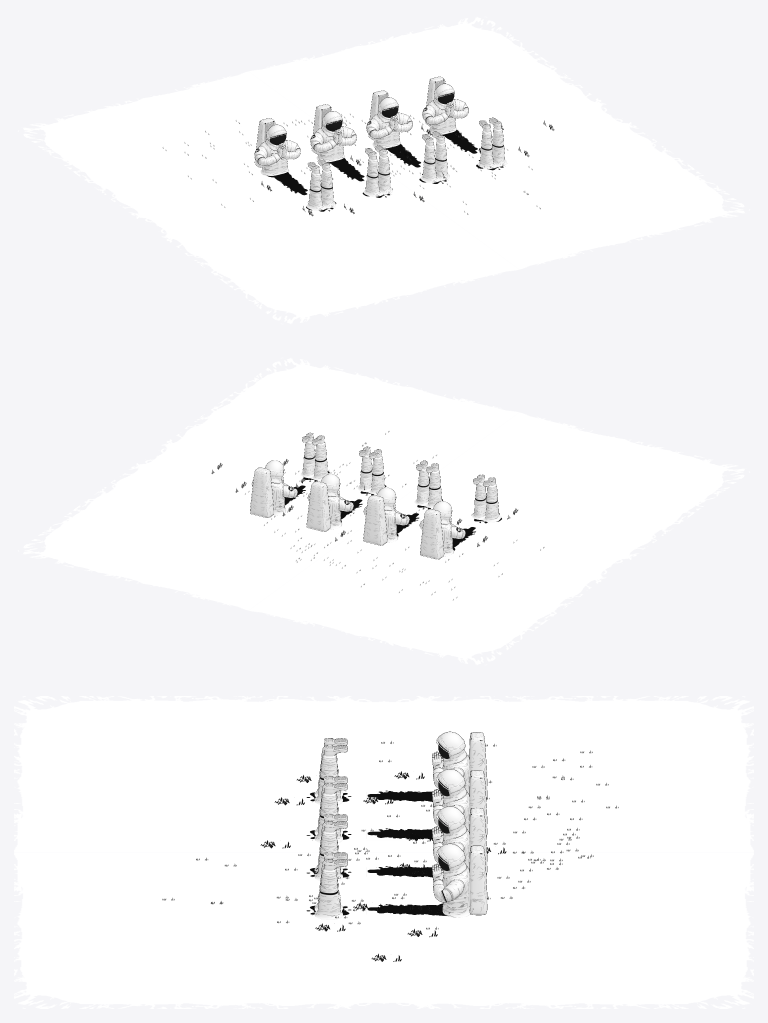
Rendered from ChainsawMan.glb.
3 views of the same model, one above another, from view 1: azimuth 30°, elevation 25°; view 2: azimuth 150°, elevation 25°; view 3: azimuth 270°, elevation 25° (orthographic). The views are drawn at different scales.
Visible parts, largest first — view 1: Ground, UpperBody.001, LowerBody, Plane, Accesories.001, Plane.001, HelmetGlass.001; view 2: Ground, LowerBody, Accesories.001, UpperBody.001, Plane, Plane.001; view 3: Ground, UpperBody.001, LowerBody, Accesories.001, Plane, Plane.001.
Part boxes in pixels (x1,y1,x2,y2): Ground: [18, 16, 749, 324]; UpperBody.001: [254, 83, 468, 176]; LowerBody: [306, 117, 507, 210]; Plane: [267, 130, 503, 211]; Accesories.001: [254, 76, 452, 167]; Plane.001: [162, 114, 554, 216]; HelmetGlass.001: [269, 92, 454, 145]; Ground: [18, 357, 749, 665]; LowerBody: [300, 432, 501, 522]; Accesories.001: [250, 467, 444, 559]; UpperBody.001: [252, 460, 465, 556]; Plane: [284, 471, 501, 550]; Plane.001: [211, 431, 544, 600]; Ground: [14, 696, 753, 1008]; UpperBody.001: [432, 731, 469, 917]; LowerBody: [314, 738, 347, 919]; Accesories.001: [442, 732, 487, 915]; Plane: [306, 790, 446, 915]; Plane.001: [162, 741, 618, 961].
Size of the model in its own units: 5203 by 566 by 5203.
Materials: 6 (4 with a texture image).
